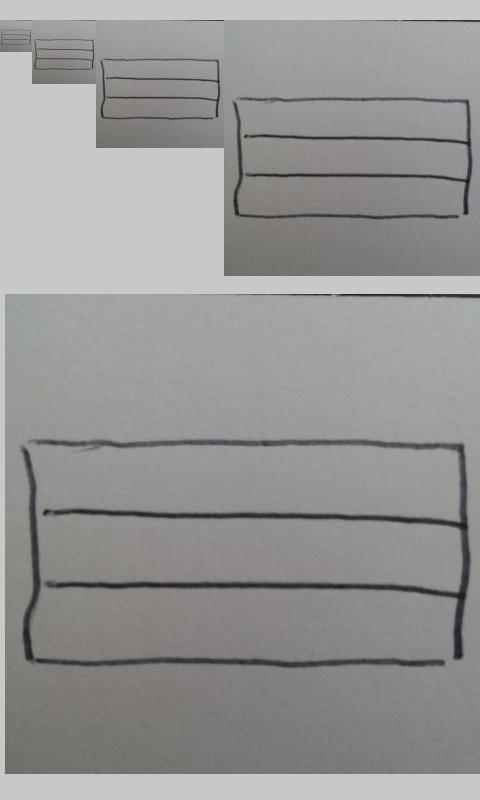list_view: (22, 434, 474, 672), (231, 95, 474, 222), (100, 58, 220, 121), (33, 38, 95, 71), (1, 29, 31, 46)
